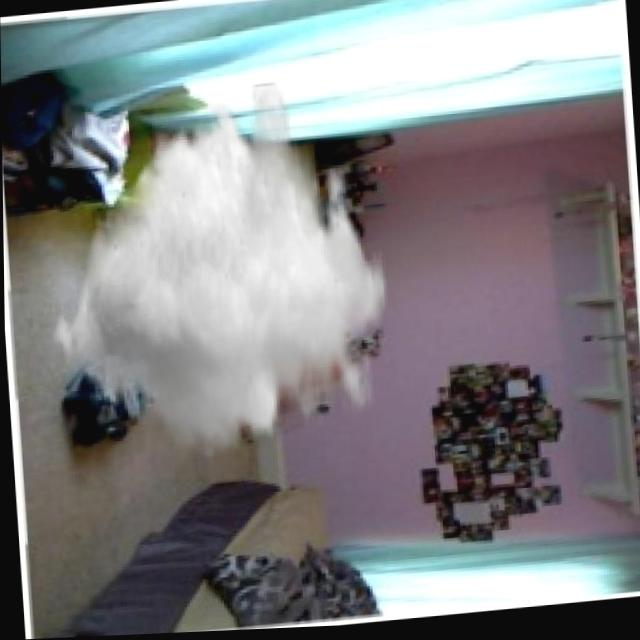Smoke: (30, 75, 396, 473)
